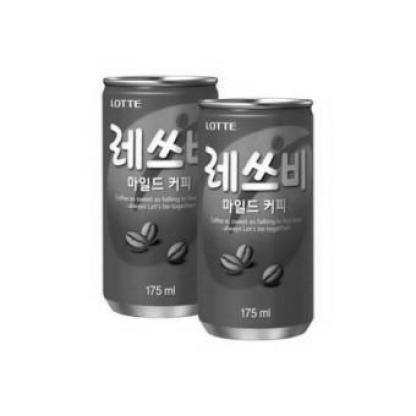alumunium_can: (192, 100, 320, 340)
